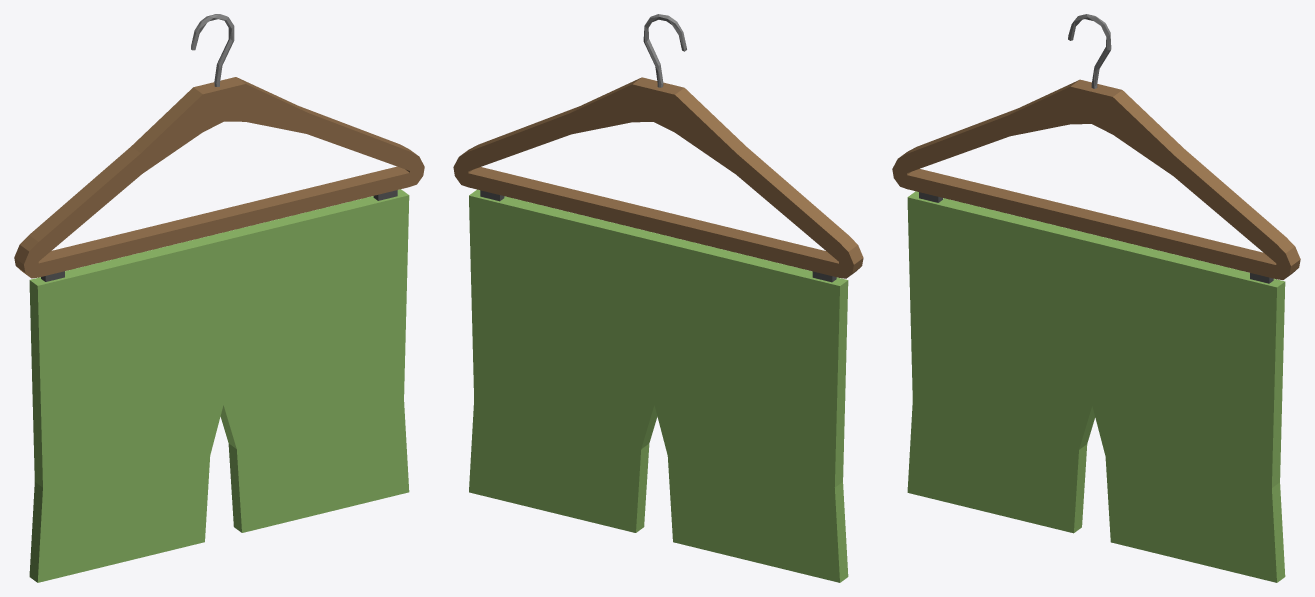
File: Clothes8_C3.fbx
The picture shows the model from 3 angles, left to right: view 1: azimuth 30°, elevation 25°; view 2: azimuth 150°, elevation 25°; view 3: azimuth 330°, elevation 25°; orthographic projection.
Parts seen in each view (by area): view 1: Clothes8_C3; view 2: Clothes8_C3; view 3: Clothes8_C3.
Boxes of the visible parts, box(x1,y1,x2,y2) form: Clothes8_C3: box(14, 14, 424, 582); Clothes8_C3: box(453, 14, 863, 582); Clothes8_C3: box(892, 14, 1300, 582).
Bounding box in the file's own units: 42.14 × 52.38 × 1.76.
